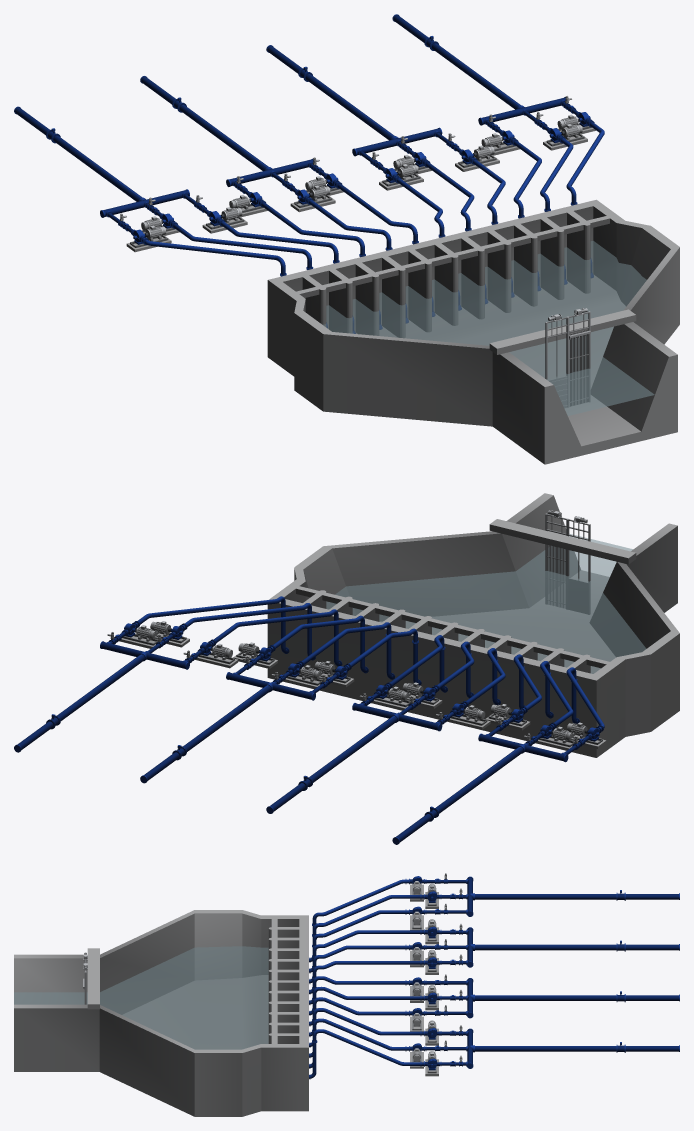
The picture shows the model from 3 angles, top to bottom: view 1: azimuth 30°, elevation 25°; view 2: azimuth 150°, elevation 25°; view 3: azimuth 270°, elevation 25°; orthographic projection. The views are drawn at different scales.
Visible parts, largest first — view 1: STATIC__CIVIL, BASIN-01, RACK-01__RACK__BARS, HDR-03__HDR__PIPE, HDR-01__HDR__PIPE, HDR-02__HDR__PIPE, HDR-04__HDR__PIPE, PMP-02__PIPE__SUCTION, PMP-01__PIPE__SUCTION, PMP-03__PIPE__SUCTION, PMP-04__PIPE__SUCTION; view 2: STATIC__CIVIL, BASIN-01, HDR-01__HDR__PIPE, HDR-02__HDR__PIPE, HDR-04__HDR__PIPE, HDR-03__HDR__PIPE, RACK-01__RACK__BARS, PMP-12__PIPE__SUCTION, PMP-10__PIPE__SUCTION, PMP-11__PIPE__SUCTION, PMP-08__PIPE__SUCTION, PMP-09__PIPE__SUCTION (+9 smaller); view 3: STATIC__CIVIL, BASIN-01, HDR-02__HDR__PIPE, HDR-03__HDR__PIPE, HDR-01__HDR__PIPE, HDR-04__HDR__PIPE, PMP-12__PIPE__SUCTION, PMP-10__PIPE__SUCTION, PMP-02__PIPE__SUCTION, PMP-04__PIPE__SUCTION, PMP-08__PIPE__SUCTION, PMP-09__PIPE__SUCTION (+6 smaller).
Part boxes in pixels (x1,y1,x2,y2): STATIC__CIVIL: (126,126,679,464); BASIN-01: (323,241,654,415); RACK-01__RACK__BARS: (567,308,590,406); HDR-03__HDR__PIPE: (266,45,442,156); HDR-01__HDR__PIPE: (14,106,189,217); HDR-02__HDR__PIPE: (140,76,313,186); HDR-04__HDR__PIPE: (392,14,565,125); PMP-02__PIPE__SUCTION: (171,222,327,328); PMP-01__PIPE__SUCTION: (142,238,286,276); PMP-03__PIPE__SUCTION: (218,219,355,333); PMP-04__PIPE__SUCTION: (259,200,382,329); STATIC__CIVIL: (119,493,679,757); BASIN-01: (326,534,646,673); HDR-01__HDR__PIPE: (392,733,568,844); HDR-02__HDR__PIPE: (266,703,442,813); HDR-04__HDR__PIPE: (14,641,189,752); HDR-03__HDR__PIPE: (140,672,315,783); RACK-01__RACK__BARS: (545,510,568,609); PMP-12__PIPE__SUCTION: (134,596,289,653); PMP-10__PIPE__SUCTION: (210,609,342,666); PMP-11__PIPE__SUCTION: (181,603,315,660); PMP-08__PIPE__SUCTION: (298,622,395,679); PMP-09__PIPE__SUCTION: (269,615,368,673); STATIC__CIVIL: (14,884,438,1116); BASIN-01: (14,946,268,1049); HDR-02__HDR__PIPE: (466,927,679,967); HDR-03__HDR__PIPE: (466,978,679,1018); HDR-01__HDR__PIPE: (466,876,679,916); HDR-04__HDR__PIPE: (466,1028,679,1068); PMP-12__PIPE__SUCTION: (309,1029,424,1079); PMP-10__PIPE__SUCTION: (309,1008,424,1057); PMP-02__PIPE__SUCTION: (309,894,424,973); PMP-04__PIPE__SUCTION: (309,929,424,994); PMP-08__PIPE__SUCTION: (309,986,424,1036); PMP-09__PIPE__SUCTION: (309,997,408,1047).
Bounding box in the file's own units: 47.1 × 9.98 × 70.01.
